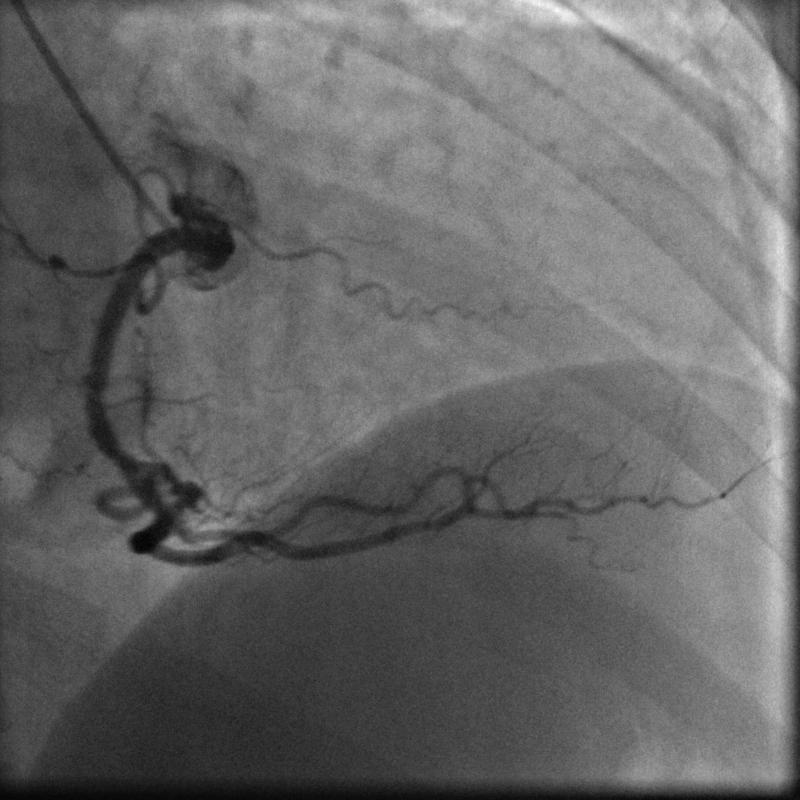Stenosis: (100, 448, 166, 483)
